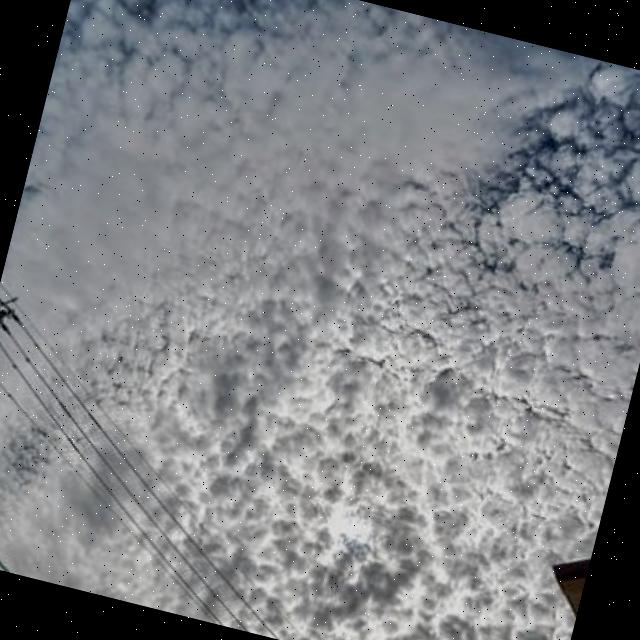Ac: (71, 1, 640, 441)
